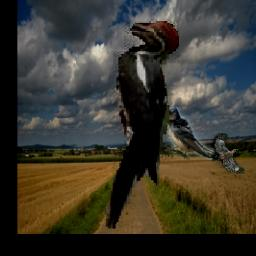Swallow: (166, 107, 232, 160)
Woodpecker: (106, 20, 179, 229), (212, 133, 244, 174)
